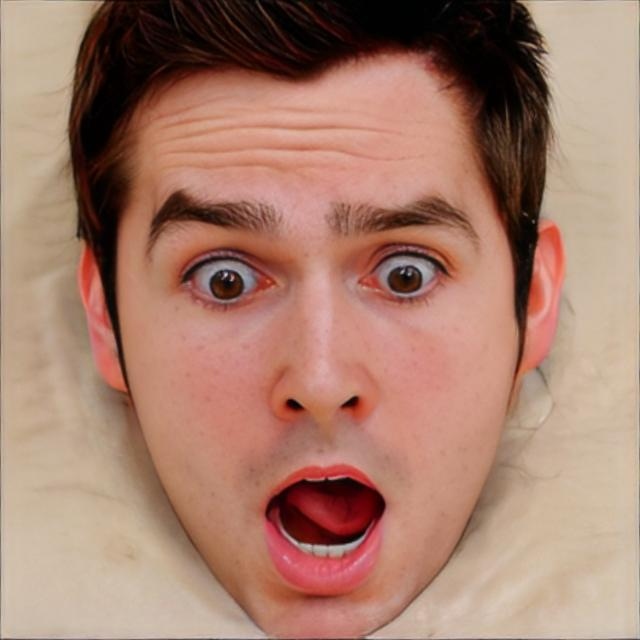fear: (119, 44, 518, 640)
